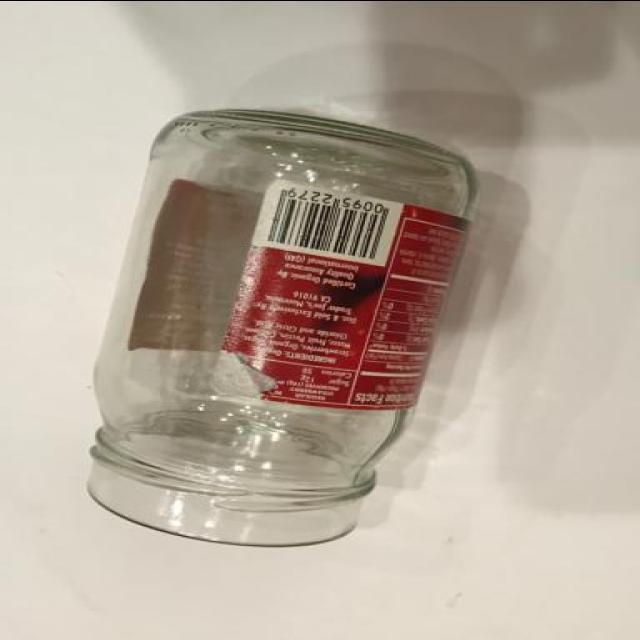litter: (80, 99, 507, 551)
